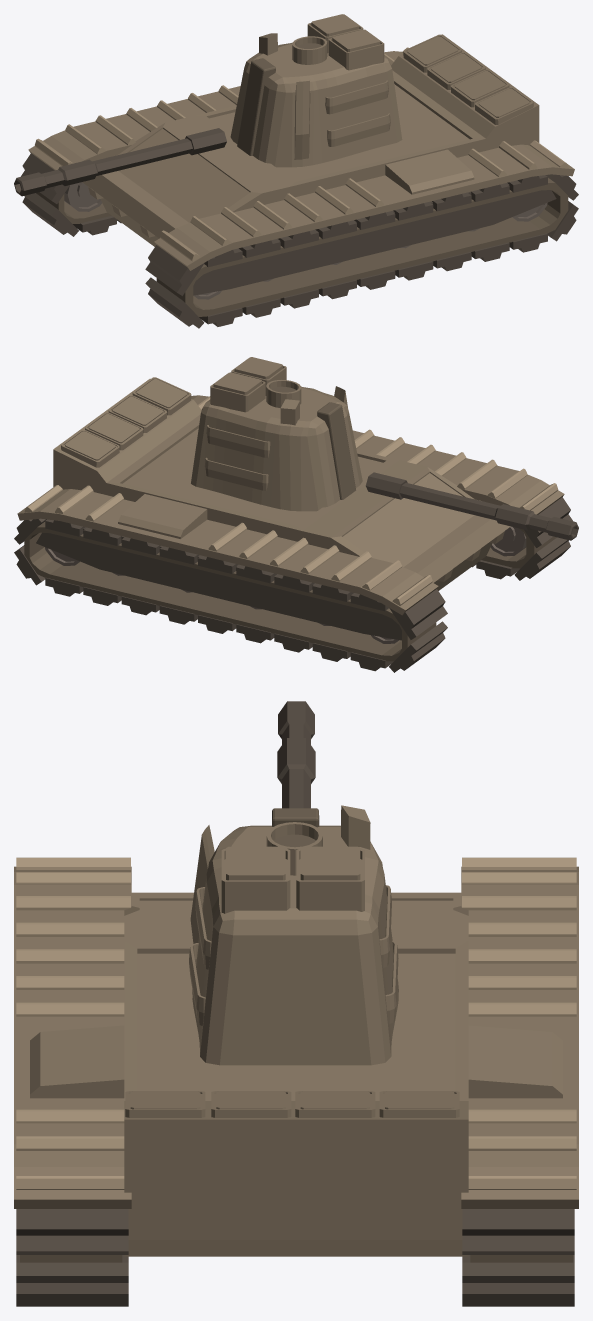
The model's file is Tank2.obj.
3 renders of one model, top to bottom at view 1: azimuth 30°, elevation 25°; view 2: azimuth 150°, elevation 25°; view 3: azimuth 270°, elevation 25°, orthographic. The views are drawn at different scales.
Visible parts, largest first — view 1: Tank_body_p1, Tank_Turret_p0, TrackMesh.L, Tank_body_p0, Tank_body_p3, Tank_body_p2, Tank_Gun, TrackMesh.R, Tank_Turret_p1, Tank_body_p4; view 2: Tank_body_p1, Tank_Turret_p0, Tank_body_p0, TrackMesh.R, Tank_body_p3, Tank_body_p2, Tank_Gun, TrackMesh.L, Tank_Turret_p1, Tank_body_p4; view 3: Tank_body_p1, Tank_Turret_p0, Tank_body_p2, TrackMesh.L, TrackMesh.R, Tank_Gun, Tank_body_p0, Tank_Turret_p1.
Part boxes in pixels (bbox=[...]): Tank_body_p1: bbox=[28, 34, 574, 270]; Tank_Turret_p0: bbox=[230, 14, 402, 167]; TrackMesh.L: bbox=[145, 174, 578, 328]; Tank_body_p0: bbox=[36, 178, 568, 316]; Tank_body_p3: bbox=[193, 183, 556, 295]; Tank_body_p2: bbox=[35, 47, 567, 261]; Tank_Gun: bbox=[14, 128, 226, 196]; TrackMesh.R: bbox=[21, 153, 121, 236]; Tank_Turret_p1: bbox=[237, 43, 322, 155]; Tank_body_p4: bbox=[64, 182, 547, 299]; Tank_body_p1: bbox=[17, 377, 564, 615]; Tank_Turret_p0: bbox=[191, 357, 362, 511]; Tank_body_p0: bbox=[24, 521, 556, 661]; TrackMesh.R: bbox=[14, 518, 447, 672]; Tank_body_p3: bbox=[36, 527, 401, 640]; Tank_body_p2: bbox=[24, 396, 558, 605]; Tank_Gun: bbox=[365, 472, 578, 540]; TrackMesh.L: bbox=[472, 497, 572, 580]; Tank_Turret_p1: bbox=[271, 386, 355, 499]; Tank_body_p4: bbox=[45, 526, 526, 643]; Tank_body_p1: bbox=[14, 866, 578, 1256]; Tank_Turret_p0: bbox=[189, 805, 398, 1065]; Tank_body_p2: bbox=[16, 857, 576, 1189]; TrackMesh.L: bbox=[16, 1209, 128, 1306]; TrackMesh.R: bbox=[462, 1209, 574, 1306]; Tank_Gun: bbox=[277, 701, 315, 808]; Tank_body_p0: bbox=[20, 1255, 572, 1262]; Tank_Turret_p1: bbox=[272, 808, 319, 847].
Size of the model in its own units: 17.68 by 6.6 by 10.09.
